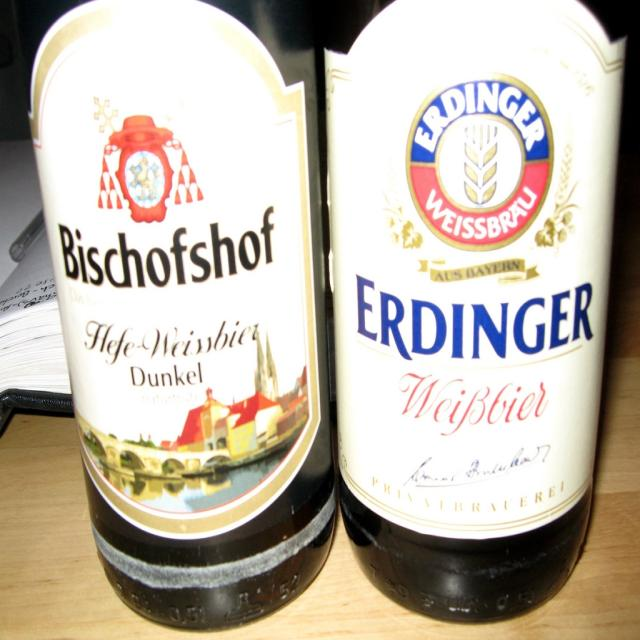erdinger: (350, 71, 604, 371)
